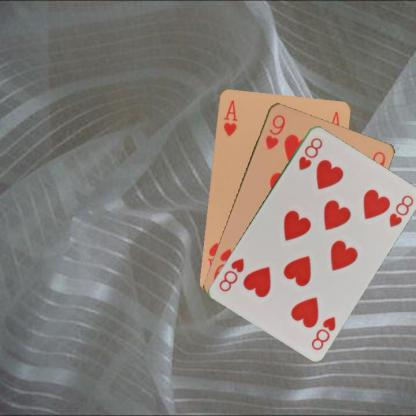8h: (308, 313, 337, 351), (296, 134, 323, 172)
9h: (262, 111, 287, 151)
Ah: (221, 97, 239, 138)
